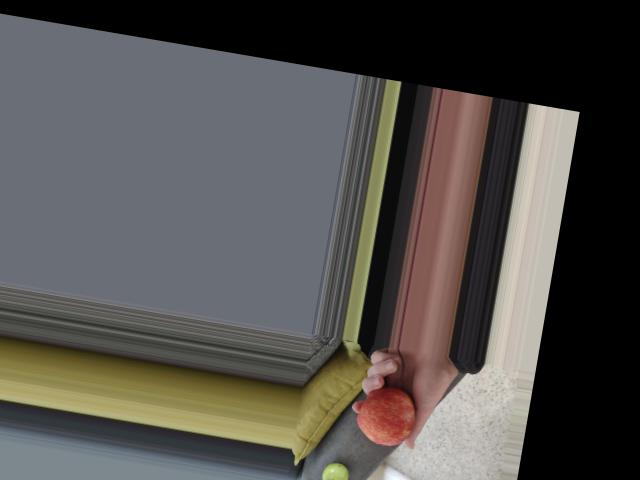apple: (312, 452, 352, 480)
